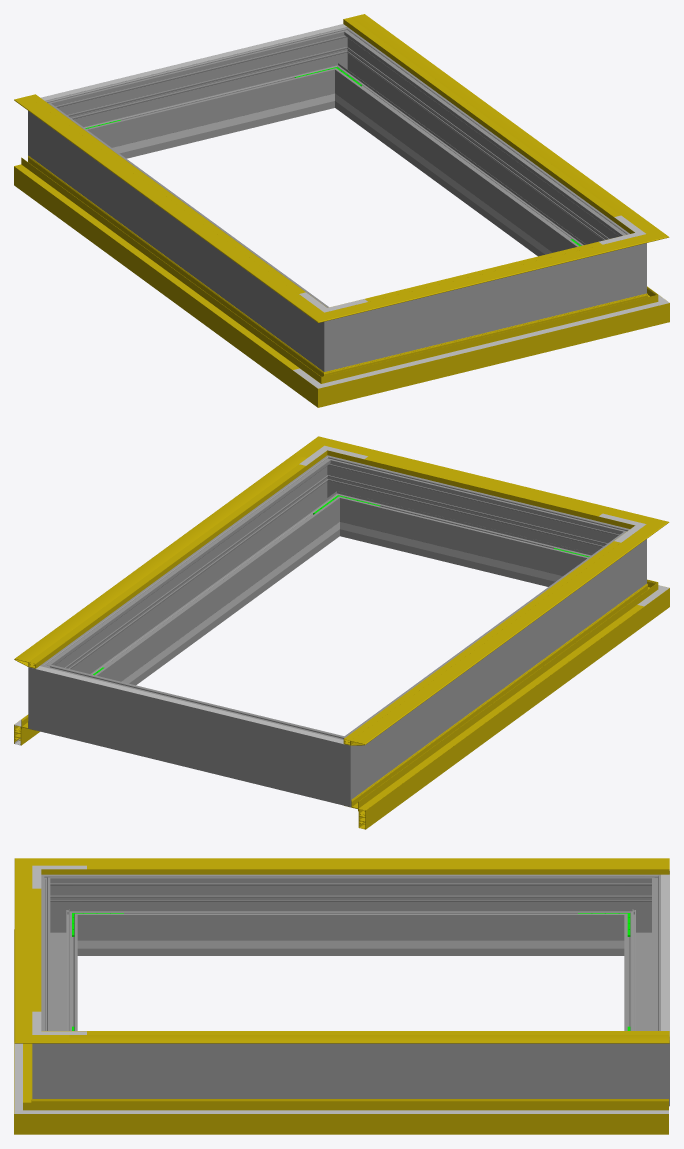
3 views of the same model, one above another, from view 1: azimuth 30°, elevation 25°; view 2: azimuth 150°, elevation 25°; view 3: azimuth 270°, elevation 25° (orthographic). The views are drawn at different scales.
Parts seen in each view (by area): view 1: 3DGeom-298, 3DGeom-277, 3DGeom-299, 3DGeom-269, 3DGeom-85, 3DGeom-90, 3DGeom-145, 3DGeom-147, 3DGeom-271, 3DGeom-285, 3DGeom-141, 3DGeom-291 (+13 smaller); view 2: 3DGeom-298, 3DGeom-299, 3DGeom-277, 3DGeom-269, 3DGeom-85, 3DGeom-145, 3DGeom-147, 3DGeom-279, 3DGeom-141, 3DGeom-285, 3DGeom-291, 3DGeom-105 (+10 smaller); view 3: 3DGeom-269, 3DGeom-298, 3DGeom-97, 3DGeom-147, 3DGeom-145, 3DGeom-233, 3DGeom-299, 3DGeom-277, 3DGeom-291, 3DGeom-285, 3DGeom-154, 3DGeom-271 (+15 smaller).
Part boxes in pixels (x1=…): 3DGeom-298: x1=339, y1=42, x2=613, y2=256; 3DGeom-277: x1=76, y1=36, x2=327, y2=158; 3DGeom-299: x1=368, y1=254, x2=602, y2=361; 3DGeom-269: x1=53, y1=116, x2=312, y2=353; 3DGeom-85: x1=14, y1=155, x2=307, y2=389; 3DGeom-90: x1=354, y1=300, x2=625, y2=396; 3DGeom-145: x1=343, y1=14, x2=642, y2=227; 3DGeom-147: x1=14, y1=96, x2=310, y2=304; 3DGeom-271: x1=299, y1=295, x2=368, y2=371; 3DGeom-285: x1=311, y1=27, x2=368, y2=110; 3DGeom-141: x1=354, y1=241, x2=625, y2=312; 3DGeom-291: x1=603, y1=222, x2=646, y2=303; 3DGeom-298: x1=61, y1=471, x2=335, y2=685; 3DGeom-299: x1=347, y1=464, x2=598, y2=586; 3DGeom-277: x1=72, y1=672, x2=314, y2=796; 3DGeom-269: x1=362, y1=544, x2=621, y2=781; 3DGeom-85: x1=344, y1=596, x2=644, y2=829; 3DGeom-145: x1=14, y1=455, x2=314, y2=668; 3DGeom-147: x1=343, y1=536, x2=643, y2=745; 3DGeom-279: x1=306, y1=724, x2=375, y2=807; 3DGeom-141: x1=350, y1=447, x2=624, y2=524; 3DGeom-285: x1=28, y1=650, x2=80, y2=739; 3DGeom-291: x1=306, y1=455, x2=363, y2=538; 3DGeom-105: x1=359, y1=605, x2=643, y2=811; 3DGeom-269: x1=87, y1=874, x2=615, y2=955; 3DGeom-298: x1=87, y1=1043, x2=615, y2=1098; 3DGeom-97: x1=68, y1=1099, x2=668, y2=1134; 3DGeom-147: x1=69, y1=858, x2=669, y2=874; 3DGeom-145: x1=69, y1=1031, x2=669, y2=1043; 3DGeom-233: x1=130, y1=940, x2=571, y2=948; 3DGeom-299: x1=41, y1=894, x2=77, y2=1030; 3DGeom-277: x1=624, y1=894, x2=660, y2=1030; 3DGeom-291: x1=32, y1=1017, x2=86, y2=1098; 3DGeom-285: x1=615, y1=1017, x2=669, y2=1106; 3DGeom-154: x1=87, y1=865, x2=669, y2=869; 3DGeom-271: x1=41, y1=874, x2=86, y2=955.
Size of the model in its own units: 1.22 by 0.2829 by 1.83.
